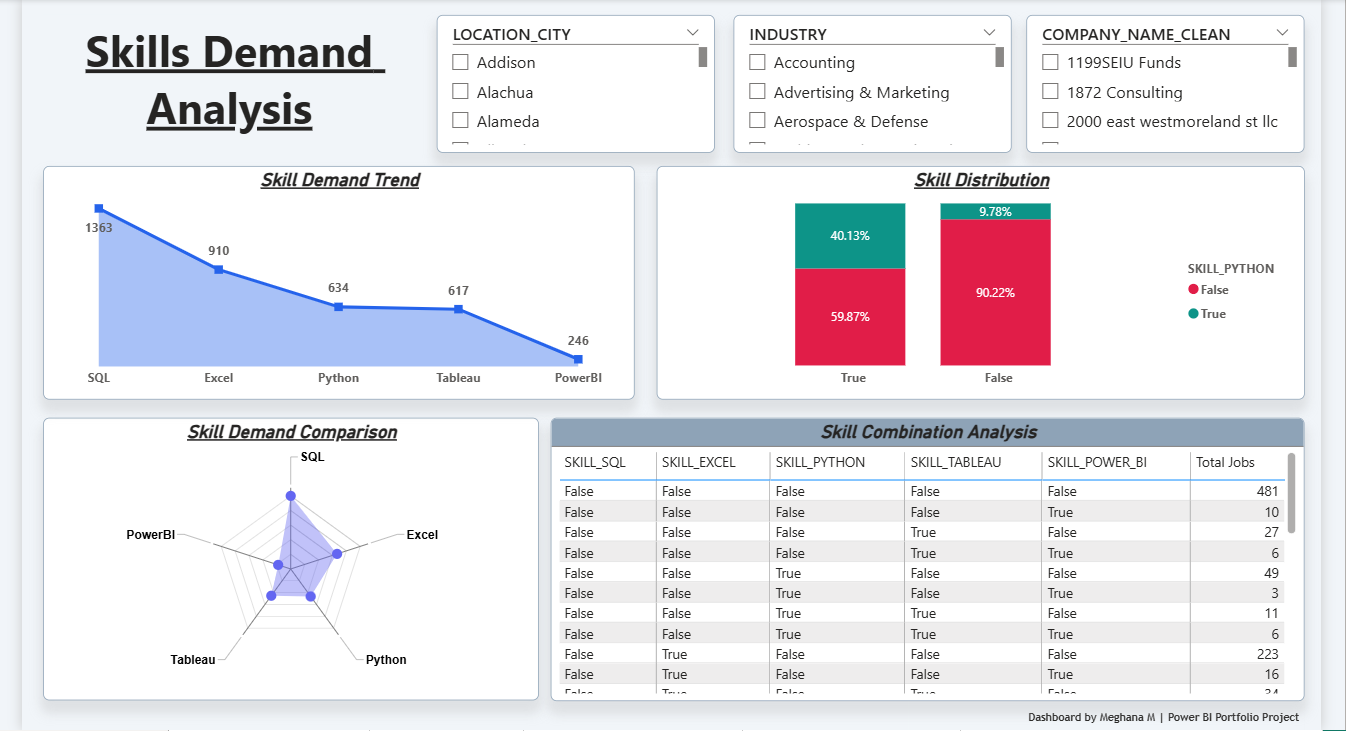

What the dashboard file says about the page in this screenshot:
{"tool":"powerbi","page":{"name":"Skills Demand Analysis","canvas":[1280,720],"ordinal":2},"visuals":[{"type":"slicer","fields":{"Values":["DATA_ANALYST_JOBS.LOCATION_CITY"]},"box":[408.6,15.7,274.1,135.8],"z":0},{"type":"slicer","fields":{"Values":["DATA_ANALYST_JOBS.COMPANY_NAME_CLEAN"]},"box":[989.4,15.7,274.1,135.8],"z":1000},{"type":"slicer","fields":{"Values":["DATA_ANALYST_JOBS.INDUSTRY"]},"box":[701,15.7,274.1,135.8],"z":2000},{"type":"textbox","box":[21.1,15.1,367,135.9],"z":3000},{"type":"RadarChart1446119667547","title":"Skill Demand Comparison","fields":{"Category":["Skills.Skill"],"Y":["Measures Table 3.Skill Job Count"]},"box":[21.4,412.9,488.6,278.6],"z":4000},{"type":"hundredPercentStackedColumnChart","title":"Skill Distribution","fields":{"Y":["Measures Table1.Total Jobs"],"Category":["DATA_ANALYST_JOBS.SKILL_SQL"],"Series":["DATA_ANALYST_JOBS.SKILL_PYTHON"]},"box":[625.7,164.3,638.6,230],"z":5000},{"type":"areaChart","title":"Skill Demand Trend","fields":{"Category":["Skills.Skill"],"Y":["Measures Table 3.Skill Demand"]},"box":[21.4,164.3,582.9,230],"z":6000},{"type":"textbox","box":[873.8,691.2,390,28.8],"z":7000},{"type":"tableEx","title":"Skill Combination Analysis","fields":{"Values":["DATA_ANALYST_JOBS.SKILL_SQL","DATA_ANALYST_JOBS.SKILL_EXCEL","DATA_ANALYST_JOBS.SKILL_PYTHON","DATA_ANALYST_JOBS.SKILL_TABLEAU","DATA_ANALYST_JOBS.SKILL_POWER_BI","Measures Table1.Total Jobs"]},"box":[520.8,412.5,742.7,279.3],"z":8000}]}

Visuals, with their boxes on the page's 1280x720 design canvas (x1, y1, x2, y2). These are canvas units, not pixel positions in the 1346x731 screenshot, which may show the page scaled, cropped or inside an application window:
slicer - DATA_ANALYST_JOBS.LOCATION_CITY: pyautogui.locateOnScreen(409, 16, 683, 152)
slicer - DATA_ANALYST_JOBS.COMPANY_NAME_CLEAN: pyautogui.locateOnScreen(989, 16, 1264, 152)
slicer - DATA_ANALYST_JOBS.INDUSTRY: pyautogui.locateOnScreen(701, 16, 975, 152)
textbox: pyautogui.locateOnScreen(21, 15, 388, 151)
"Skill Demand Comparison" RadarChart1446119667547: pyautogui.locateOnScreen(21, 413, 510, 692)
"Skill Distribution" hundredPercentStackedColumnChart: pyautogui.locateOnScreen(626, 164, 1264, 394)
"Skill Demand Trend" areaChart: pyautogui.locateOnScreen(21, 164, 604, 394)
textbox: pyautogui.locateOnScreen(874, 691, 1264, 720)
"Skill Combination Analysis" tableEx: pyautogui.locateOnScreen(521, 412, 1264, 692)
